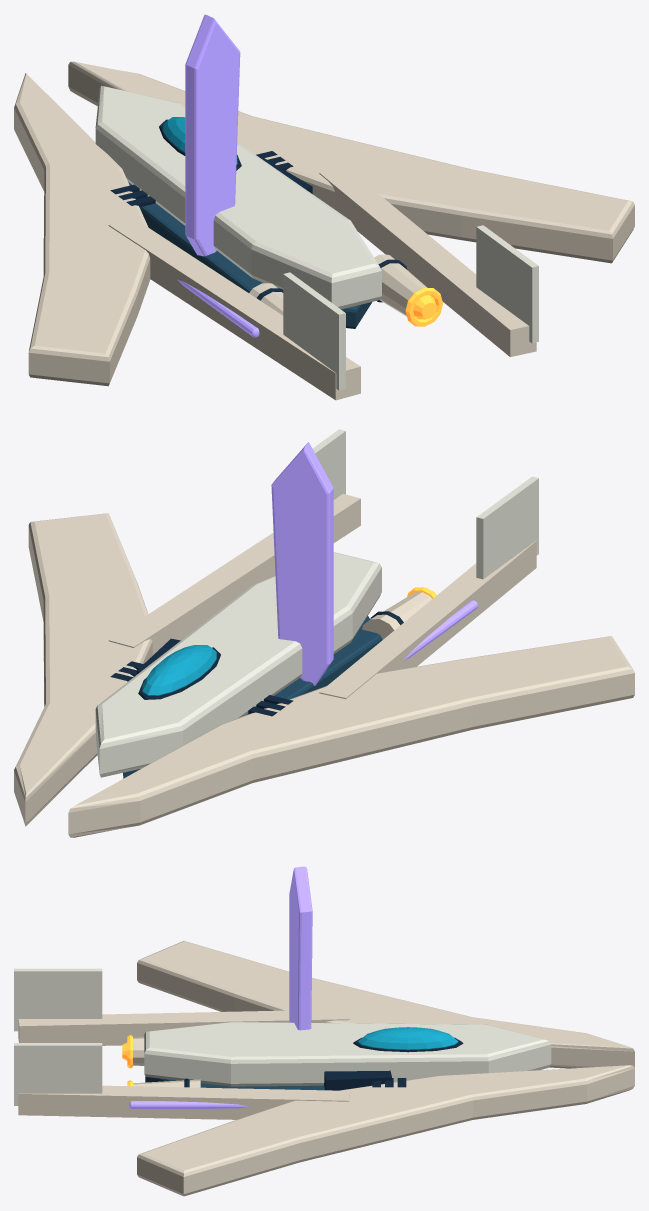
Rendered from wraith-low.glb.
3 renders of one model, top to bottom at view 1: azimuth 30°, elevation 25°; view 2: azimuth 150°, elevation 25°; view 3: azimuth 270°, elevation 25°, orthographic. The views are drawn at different scales.
Visible parts, largest first — view 1: hull_static, porcelain_static, trim_static, accent_static, dark_static, engine_static, glass_static; view 2: hull_static, porcelain_static, trim_static, glass_static, accent_static, dark_static; view 3: hull_static, porcelain_static, trim_static, glass_static, dark_static, accent_static.
Part boxes in pixels (box(x1,y1,x2,y2)): hull_static: box(14, 61, 634, 400); porcelain_static: box(95, 85, 538, 390); trim_static: box(177, 14, 259, 337); accent_static: box(128, 182, 371, 328); dark_static: box(110, 119, 407, 302); engine_static: box(405, 287, 442, 326); glass_static: box(163, 117, 237, 164); hull_static: box(14, 493, 634, 837); porcelain_static: box(95, 429, 538, 777); trim_static: box(271, 442, 477, 685); glass_static: box(142, 645, 216, 695); accent_static: box(123, 616, 382, 778); dark_static: box(110, 611, 403, 716); hull_static: box(18, 941, 634, 1196); porcelain_static: box(14, 968, 551, 1105); trim_static: box(129, 866, 312, 1108); glass_static: box(358, 1027, 458, 1049); dark_static: box(184, 1037, 463, 1090); accent_static: box(145, 1076, 324, 1090).
Bounding box in the file's own units: 351 × 144 × 394.
